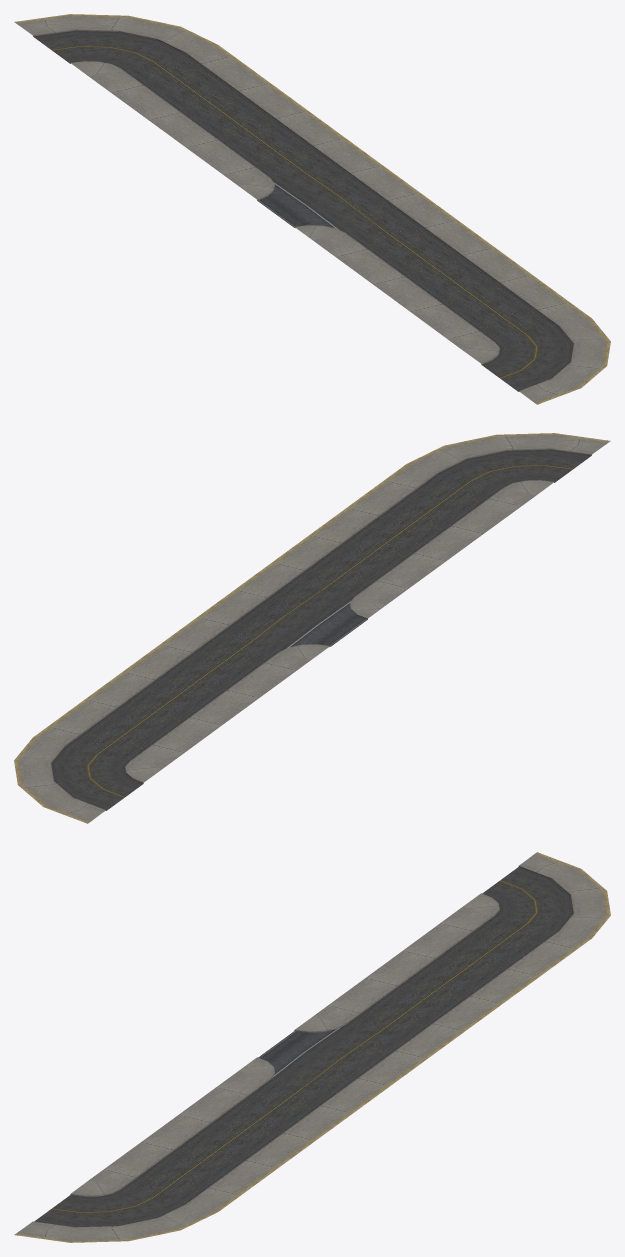
Rendered from vegassroad132.obj.
3 views of the same model, one above another, from view 1: azimuth 30°, elevation 25°; view 2: azimuth 150°, elevation 25°; view 3: azimuth 330°, elevation 25° (orthographic).
Visible parts, largest first — view 1: VegasSroad132; view 2: VegasSroad132; view 3: VegasSroad132.
Boxes of the visible parts, x1,y1,x2,y2 form: VegasSroad132: (14,14,610,404); VegasSroad132: (14,433,610,823); VegasSroad132: (14,852,610,1242).
Size of the model in its own units: 20.04 by 0.2216 by 140.
Materials: 6 (6 with a texture image).
